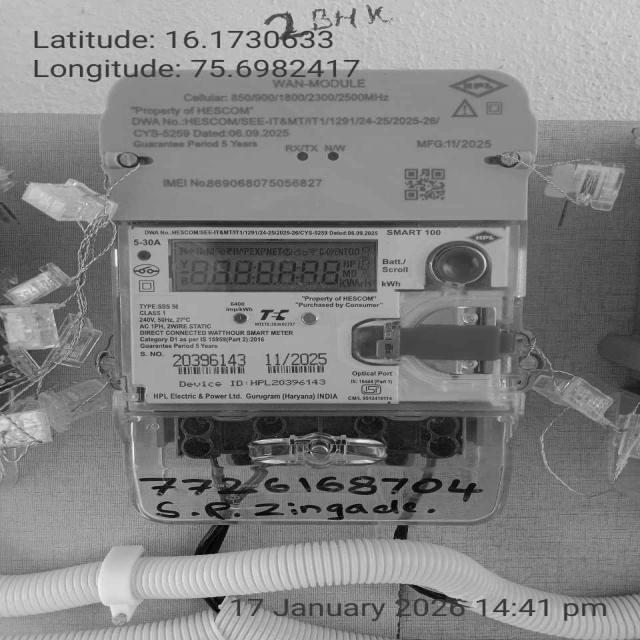meter: (104, 67, 535, 404)
